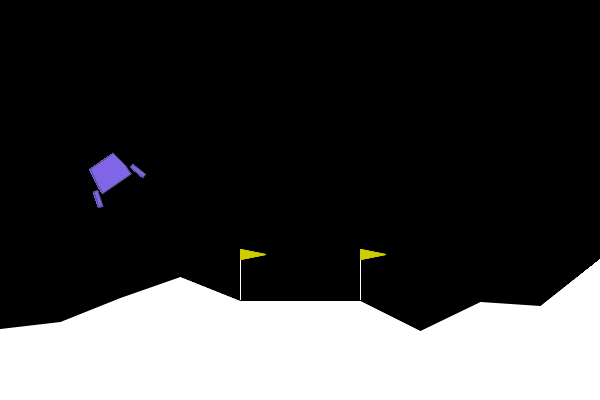lander: (76, 143, 148, 210)
